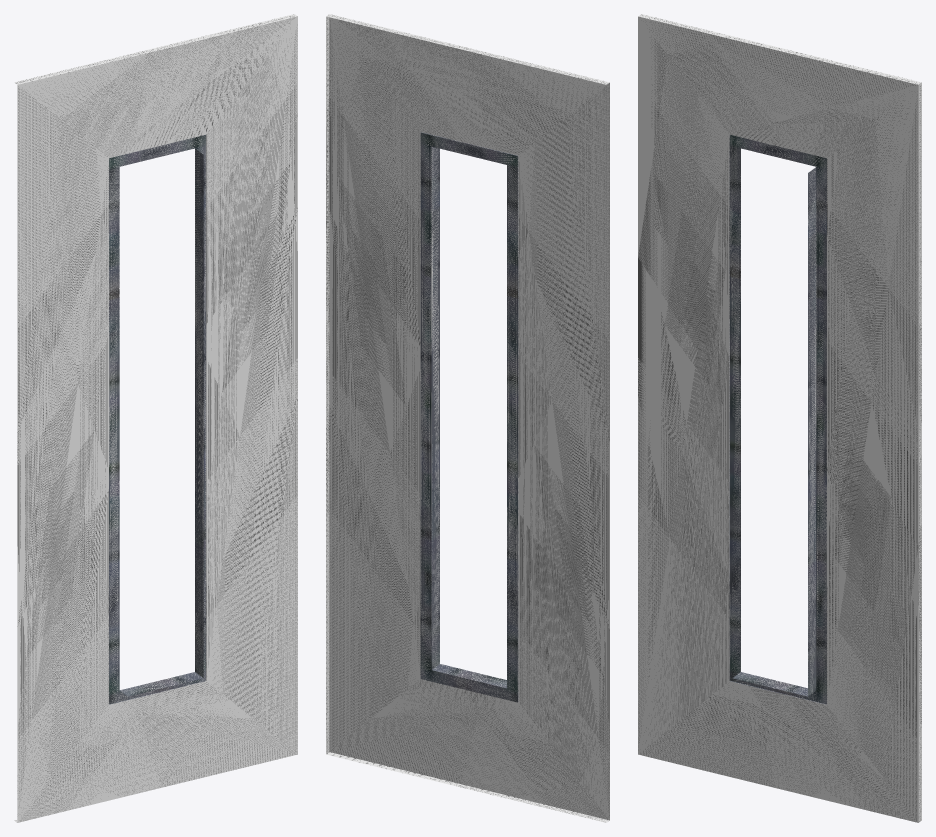
3 views of the same model, side by side, from view 1: azimuth 30°, elevation 25°; view 2: azimuth 150°, elevation 25°; view 3: azimuth 330°, elevation 25° (orthographic).
Bounding box in the file's own units: 0.6962 × 1.75 × 0.0495.
